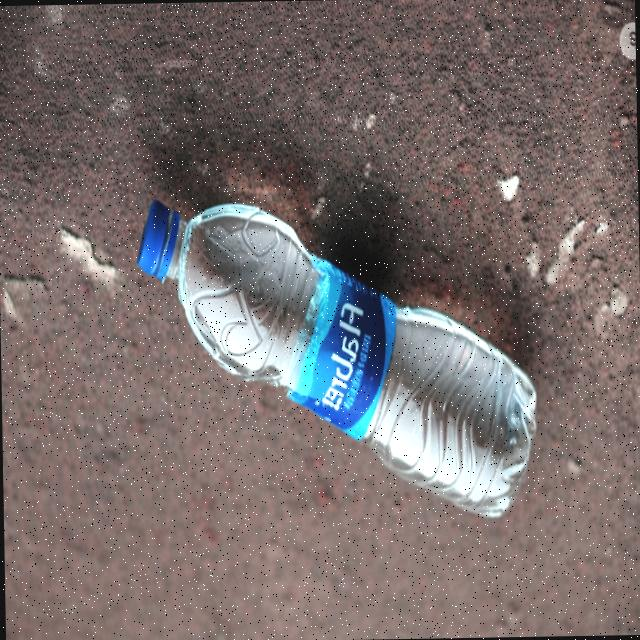plastic: (134, 182, 541, 526)
